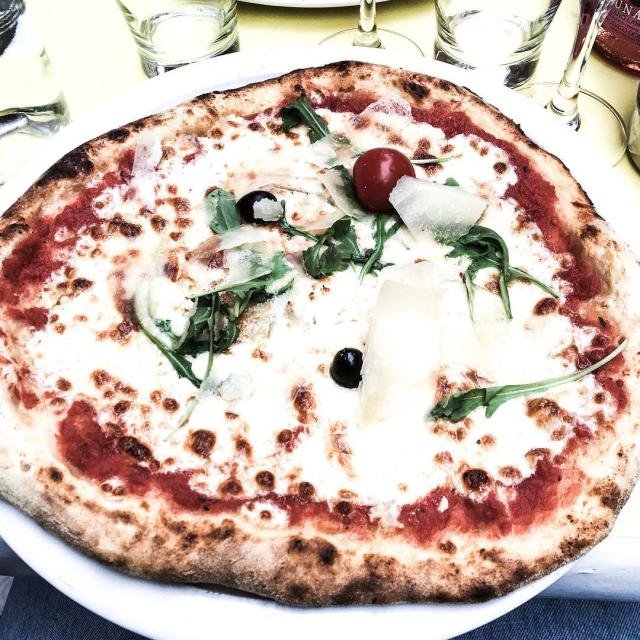black_olives: (327, 345, 370, 393), (236, 188, 280, 224)
pizza: (0, 61, 640, 608)
tomatoes: (349, 144, 416, 218)
